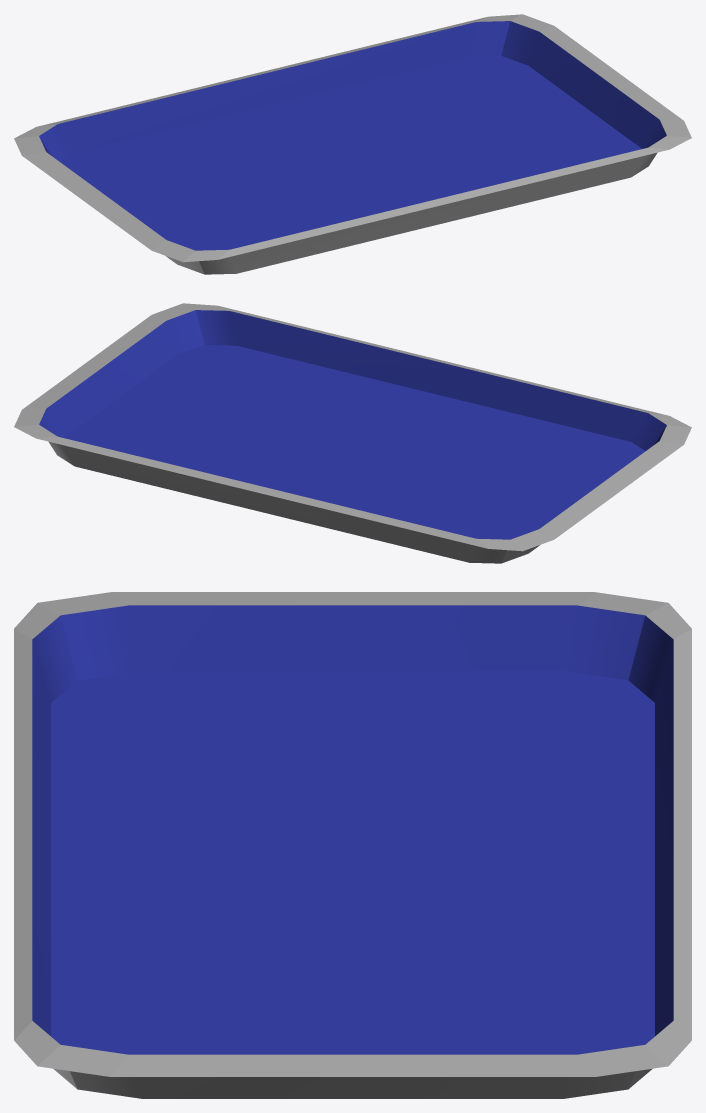
The model's file is Plate.fbx.
3 views of the same model, one above another, from view 1: azimuth 30°, elevation 25°; view 2: azimuth 150°, elevation 25°; view 3: azimuth 270°, elevation 25° (orthographic). The views are drawn at different scales.
Visible parts, largest first — view 1: pCube3; view 2: pCube3; view 3: pCube3.
Boxes of the visible parts, box(x1,y1,x2,y2) form: pCube3: box(14, 14, 691, 274); pCube3: box(14, 303, 691, 563); pCube3: box(14, 592, 691, 1098).
Size of the model in its own units: 5.8 by 0.3188 by 3.43.
